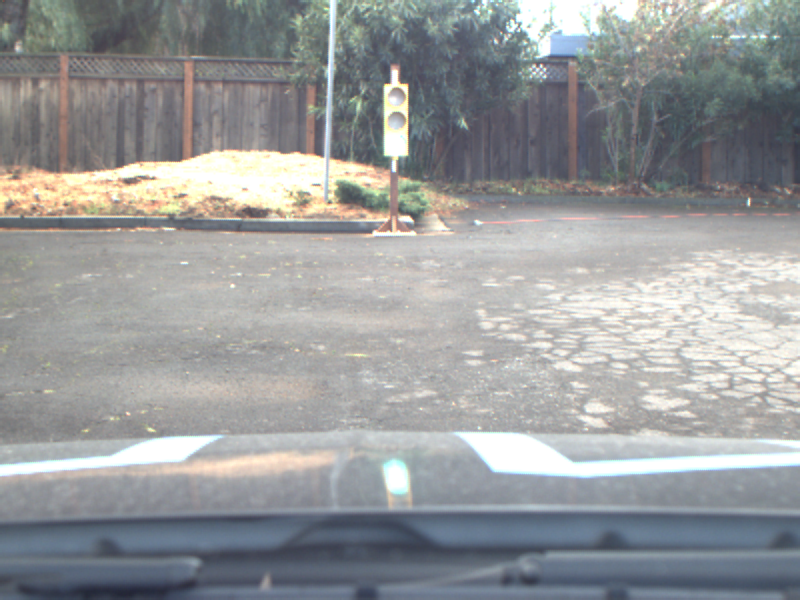Green: (382, 83, 408, 157)
